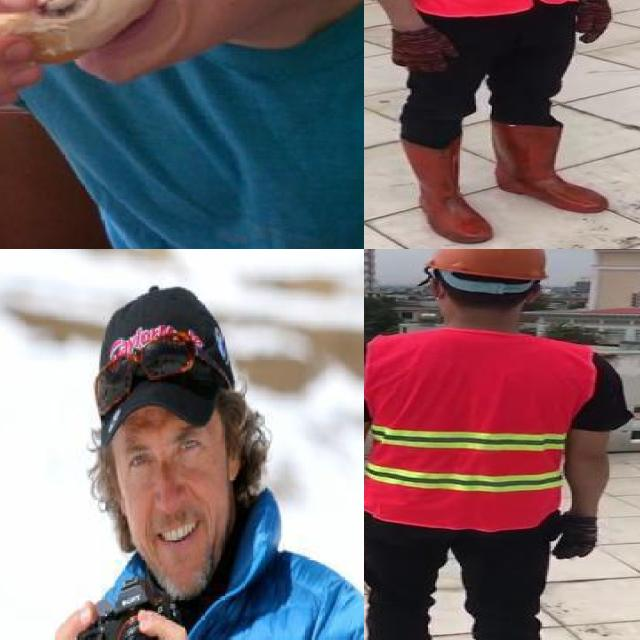boots: (488, 119, 610, 213), (401, 137, 494, 243)
face_nomask: (109, 408, 217, 555), (0, 0, 178, 77)
glasses: (90, 331, 233, 419)
hand_glove: (391, 27, 460, 77), (554, 515, 599, 560), (577, 0, 611, 42)
hand_noglove: (45, 598, 130, 640), (131, 604, 208, 640)
head_helmet: (427, 249, 552, 286)
head_nohelmet: (75, 296, 256, 436)
person: (364, 249, 637, 640), (364, 0, 628, 249)
vest: (364, 329, 593, 528)
